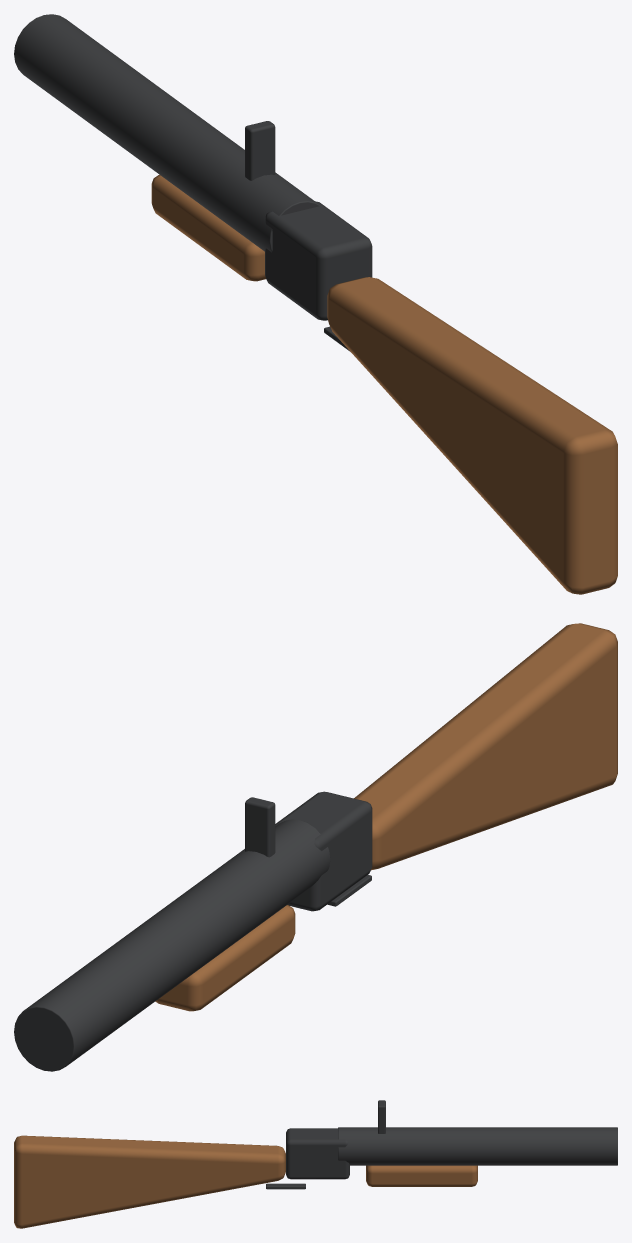
The picture shows the model from 3 angles, top to bottom: view 1: azimuth 30°, elevation 25°; view 2: azimuth 150°, elevation 25°; view 3: azimuth 270°, elevation 25°; orthographic projection. The views are drawn at different scales.
Parts seen in each view (by area): view 1: Stock, Barrel, Action, Forend, LeafSight; view 2: Stock, Barrel, Action, Forend, LeafSight; view 3: Stock, Barrel, Action, Forend, TriggerGuard, LeafSight.
Part boxes in pixels (x1,y1,x2,y2): Stock: (327,277,617,594); Barrel: (14,14,320,252); Action: (265,201,372,320); Forend: (151,174,265,281); LeafSight: (245,121,275,180); Stock: (354,623,617,870); Barrel: (14,819,330,1071); Action: (275,791,372,911); Forend: (155,905,295,1011); LeafSight: (245,797,275,857); Stock: (14,1135,285,1228); Barrel: (338,1127,617,1165); Action: (286,1128,349,1179); Forend: (366,1165,477,1186); TriggerGuard: (266,1183,305,1189); LeafSight: (378,1100,385,1133).
Bounding box in the file's own units: 0.048 × 0.168 × 0.755.
